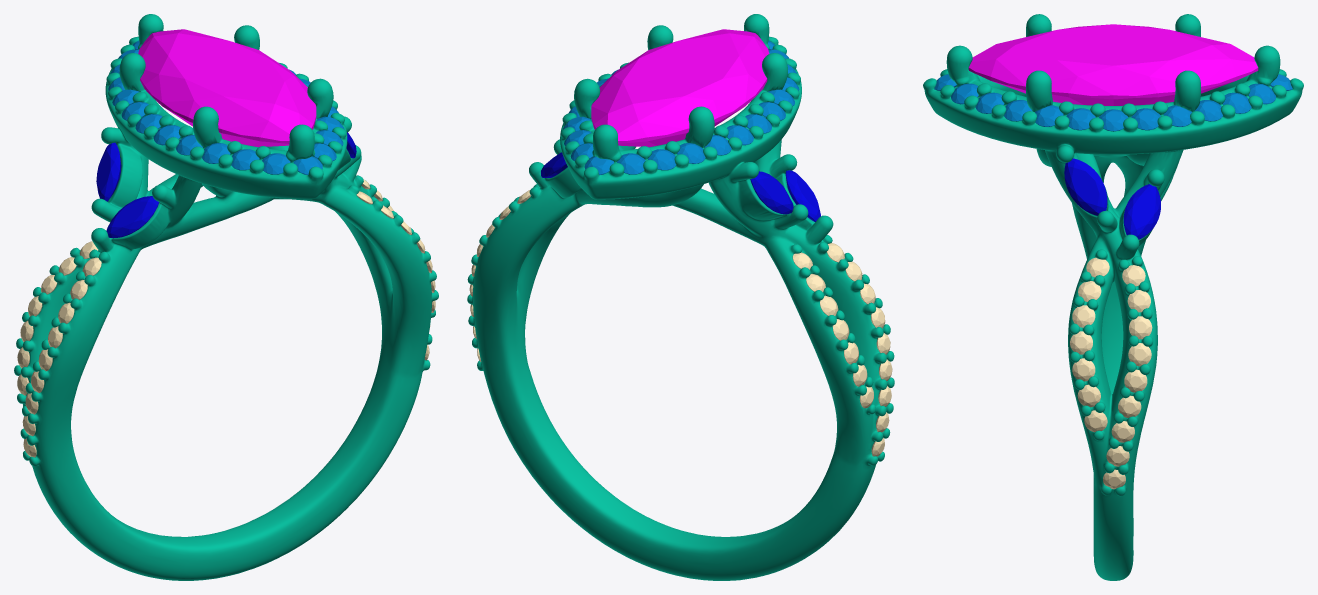
The model's file is BE104H_MQ_200ct_RENDER.glb.
3 renders of one model, left to right at view 1: azimuth 30°, elevation 25°; view 2: azimuth 150°, elevation 25°; view 3: azimuth 270°, elevation 25°, orthographic.
Visible parts, largest first — view 1: Metal 01, CS_Diamond_Marquise, Diamond_Marquise_side.001, Diamond_Marquise_side; view 2: Metal 01, CS_Diamond_Marquise, Diamond_Marquise_side, Diamond_Marquise_side.001; view 3: Metal 01, CS_Diamond_Marquise, Diamond_Marquise_side.002, Diamond_Marquise_side.003.
Boxes of the visible parts, x1,y1,x2,y2 form: Metal 01: [14, 14, 438, 580]; CS_Diamond_Marquise: [138, 29, 316, 147]; Diamond_Marquise_side.001: [106, 196, 159, 238]; Diamond_Marquise_side: [96, 142, 121, 201]; Metal 01: [467, 14, 894, 580]; CS_Diamond_Marquise: [591, 29, 769, 147]; Diamond_Marquise_side: [750, 171, 793, 214]; Diamond_Marquise_side.001: [785, 170, 820, 221]; Metal 01: [923, 14, 1303, 580]; CS_Diamond_Marquise: [968, 24, 1258, 105]; Diamond_Marquise_side.002: [1064, 158, 1107, 215]; Diamond_Marquise_side.003: [1123, 184, 1160, 239].
Bounding box in the file's own units: 20.68 × 24.45 × 16.37.
